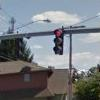Tree: (2, 13, 33, 58)
